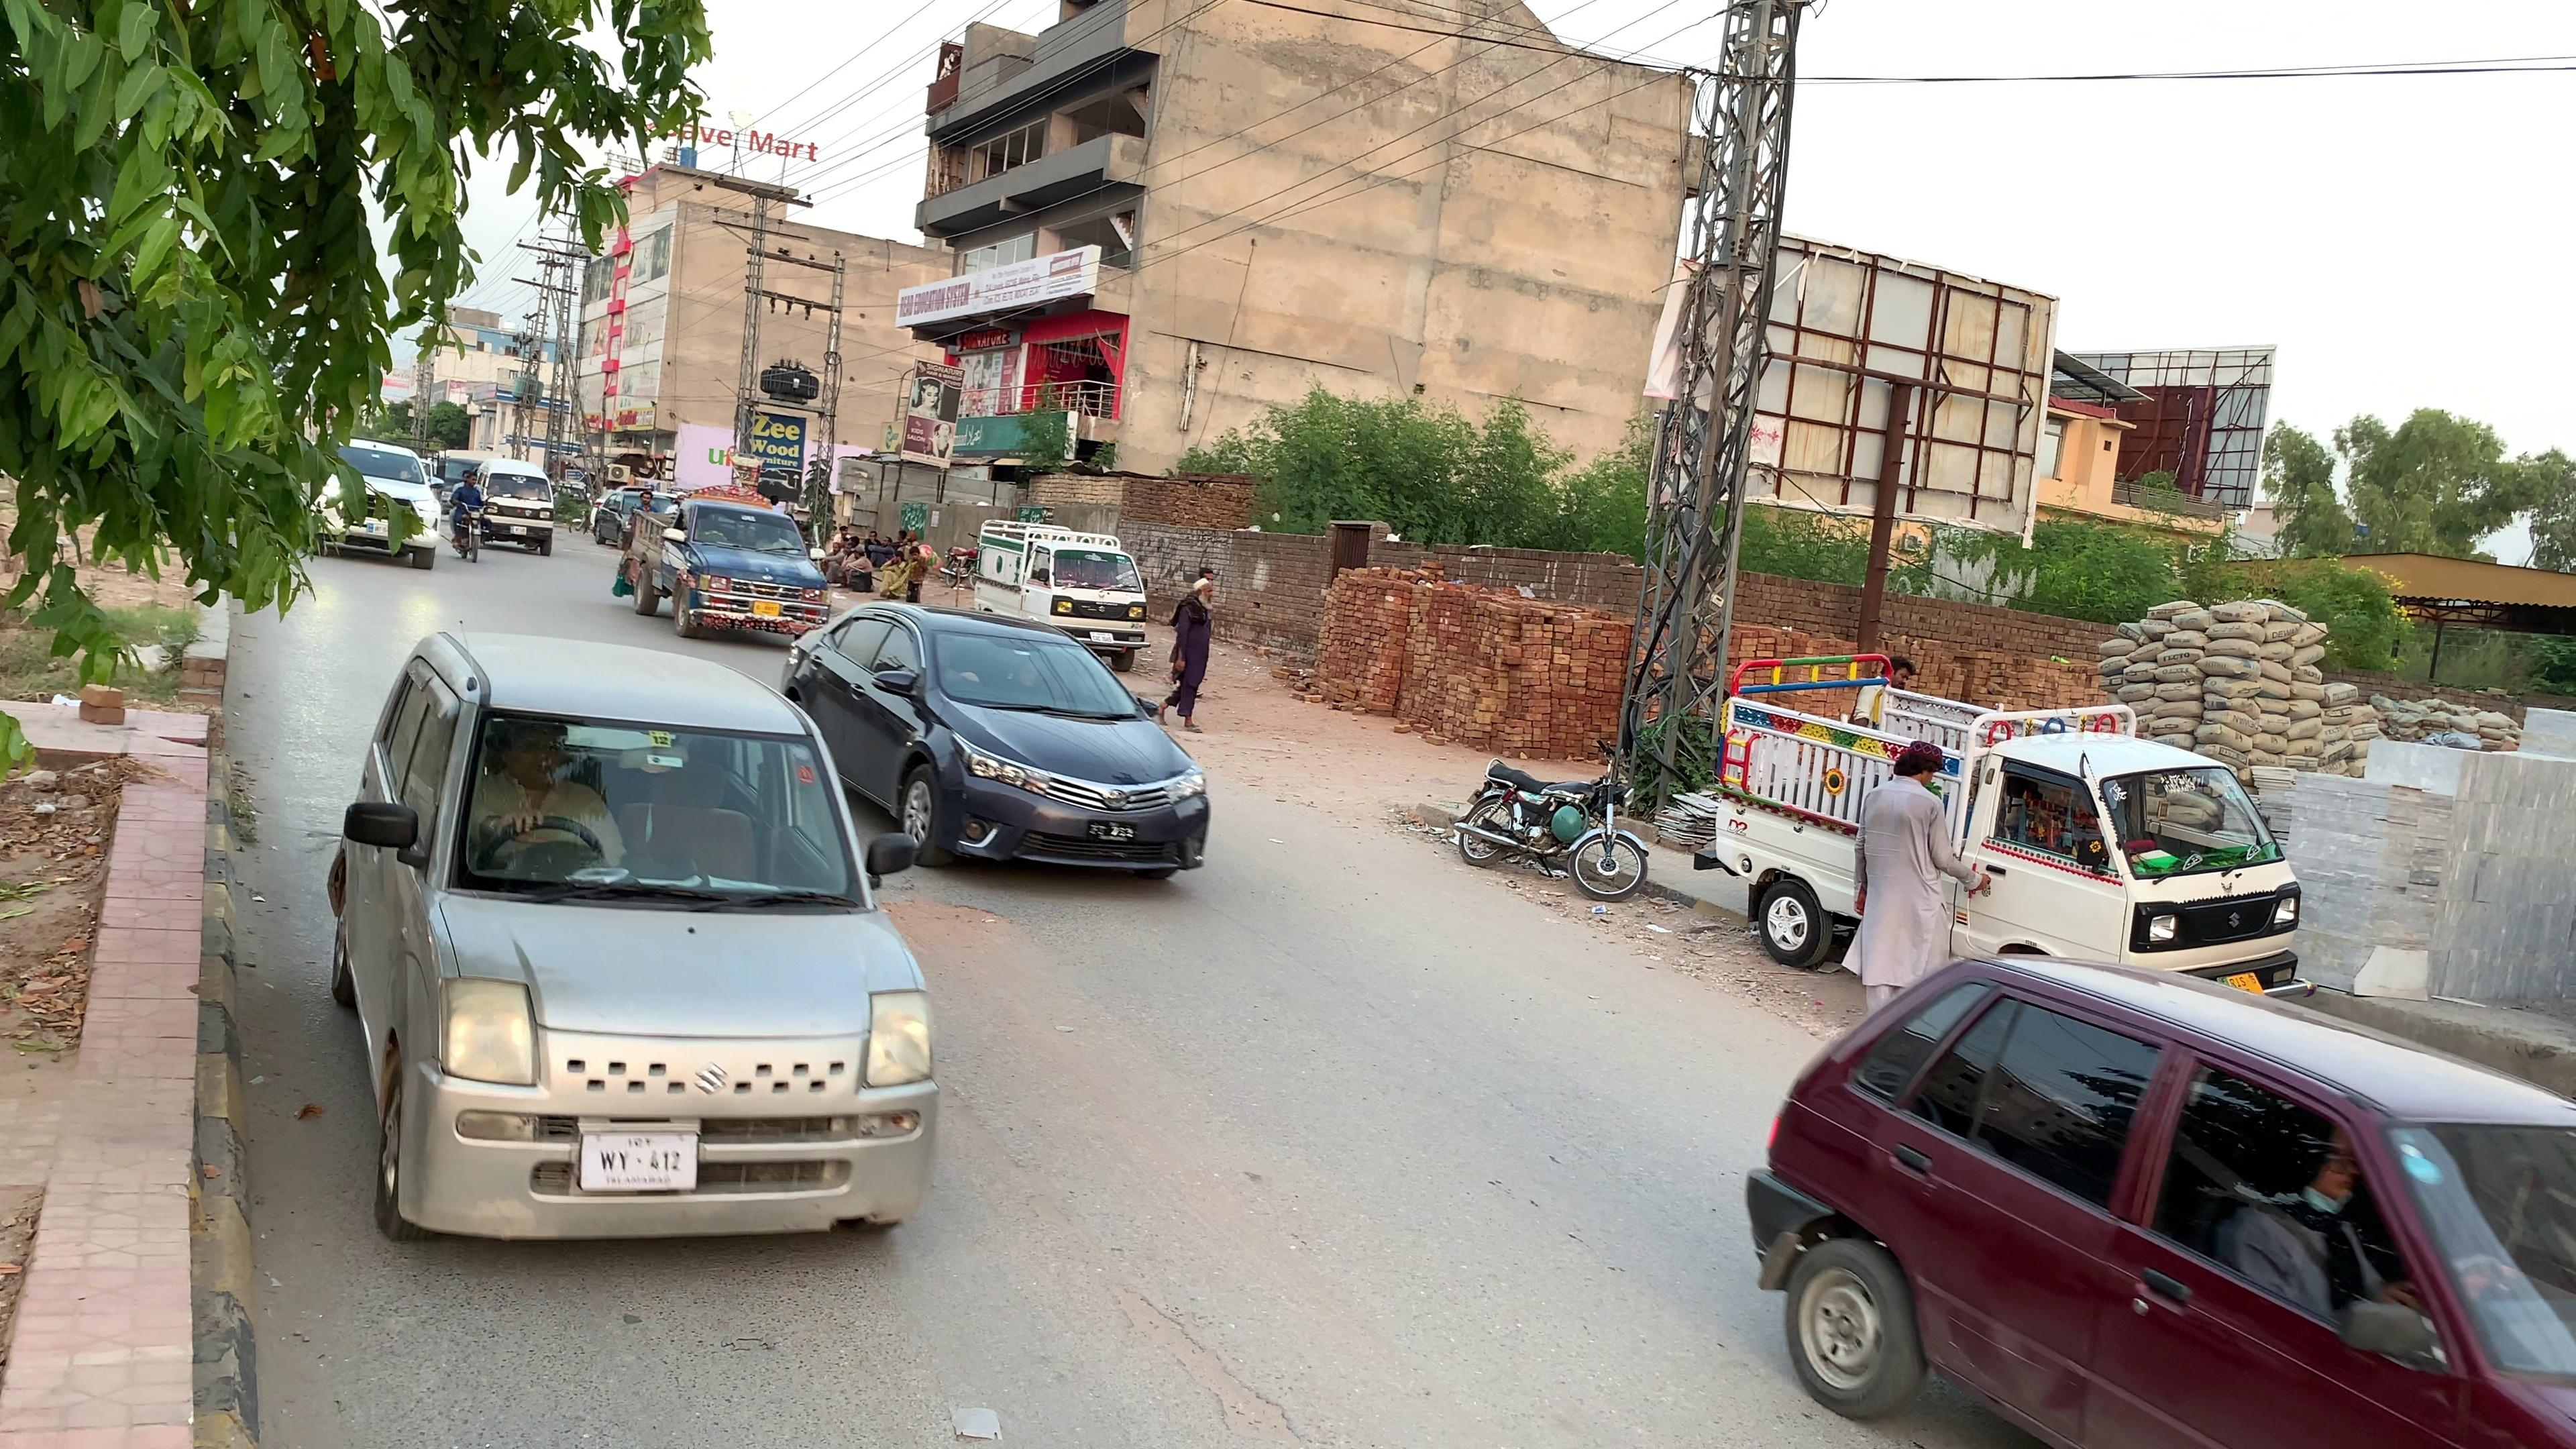windshield: (430, 694, 886, 918), (916, 617, 1155, 727)
